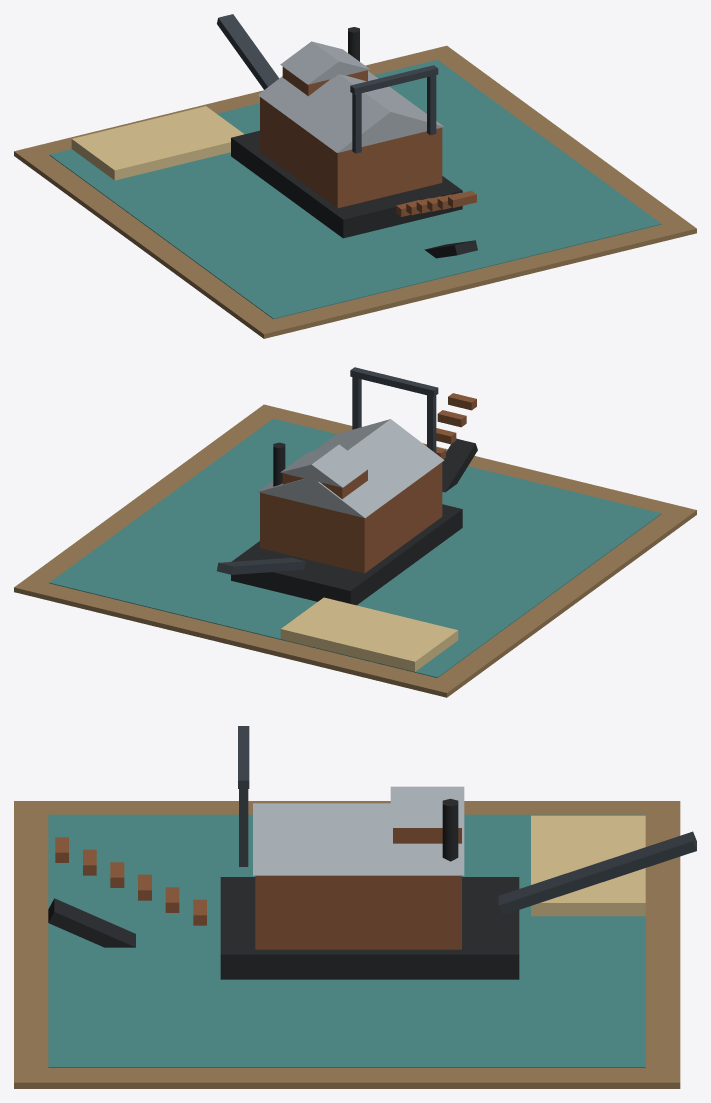
Rendered from building_kapal_korek.glb.
3 views of the same model, one above another, from view 1: azimuth 30°, elevation 25°; view 2: azimuth 150°, elevation 25°; view 3: azimuth 270°, elevation 25° (orthographic). The views are drawn at different scales.
Visible parts, largest first — view 1: building_kapal_korek; view 2: building_kapal_korek; view 3: building_kapal_korek.
Boxes of the visible parts, x1,y1,x2,y2 form: building_kapal_korek: [14, 14, 696, 338]; building_kapal_korek: [14, 367, 696, 697]; building_kapal_korek: [14, 726, 696, 1088].
Bounding box in the file's own units: 2.9 × 1.22 × 2.97.
